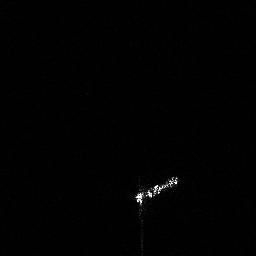ship: (130, 173, 182, 212)
